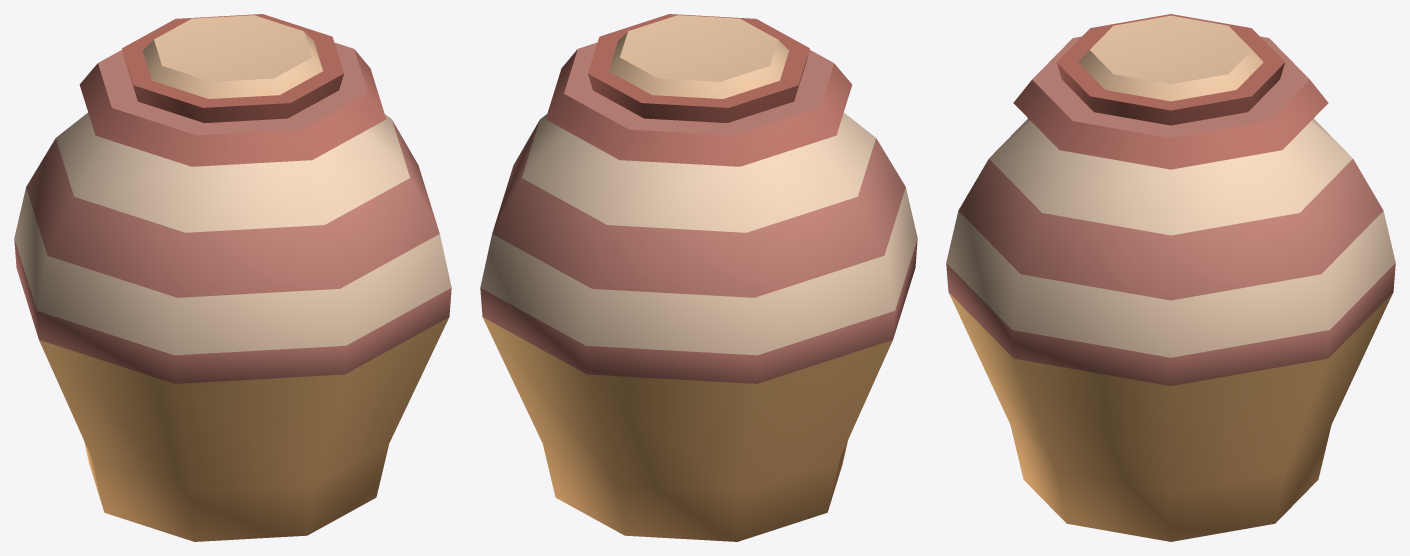
Rendered from UrnS2.fbx.
The picture shows the model from 3 angles, left to right: view 1: azimuth 30°, elevation 25°; view 2: azimuth 150°, elevation 25°; view 3: azimuth 270°, elevation 25°; orthographic projection.
Visible parts, largest first — view 1: Scene1_Urns_Small_Urn2_Lid; view 2: Scene1_Urns_Small_Urn2_Lid; view 3: Scene1_Urns_Small_Urn2_Lid.
Part boxes in pixels (x1,y1,x2,y2): Scene1_Urns_Small_Urn2_Lid: [14, 14, 451, 541]; Scene1_Urns_Small_Urn2_Lid: [480, 14, 917, 541]; Scene1_Urns_Small_Urn2_Lid: [946, 14, 1395, 541].
Bounding box in the file's own units: 43.36 × 48.15 × 43.36.
